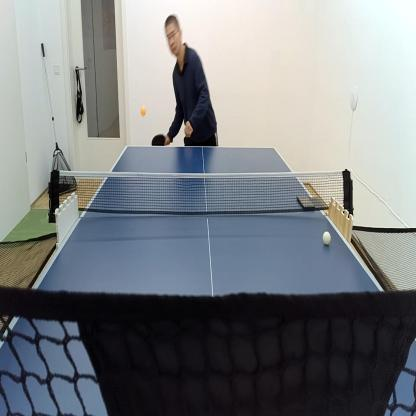Ball: (322, 229, 332, 247), (139, 103, 148, 119)
